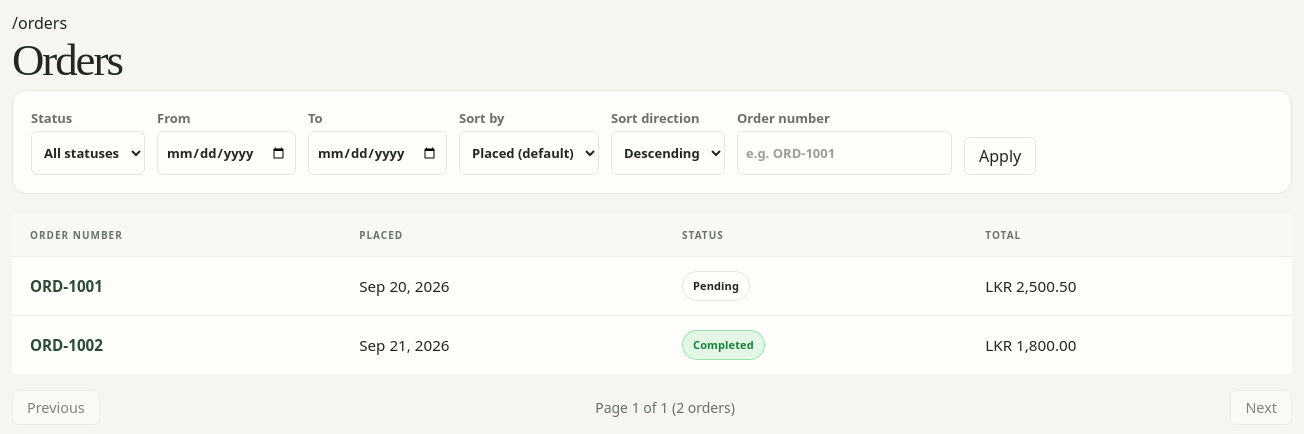
Scenario: OrdersListPage › writes filters to the URL so navigation and refresh keep them
Check: the link "ORD-1001" is shown, box [30, 276, 103, 296]
Step 1. Select "Pending" in the dropdown labelled "Status" → (88, 153), box [31, 131, 145, 175]
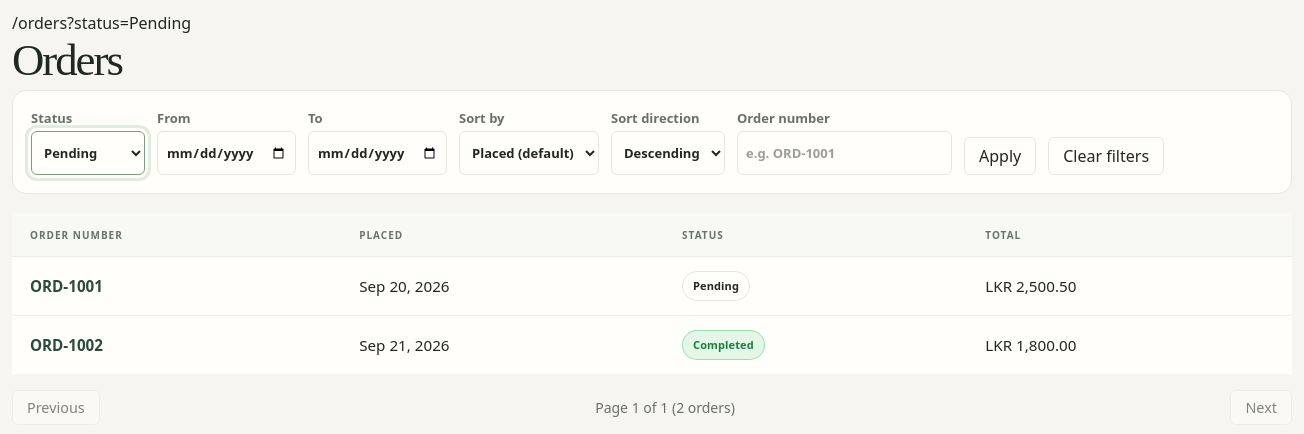
Check: the text with test id "location" reads "/orders?status=Pending", box [12, 12, 191, 34]
